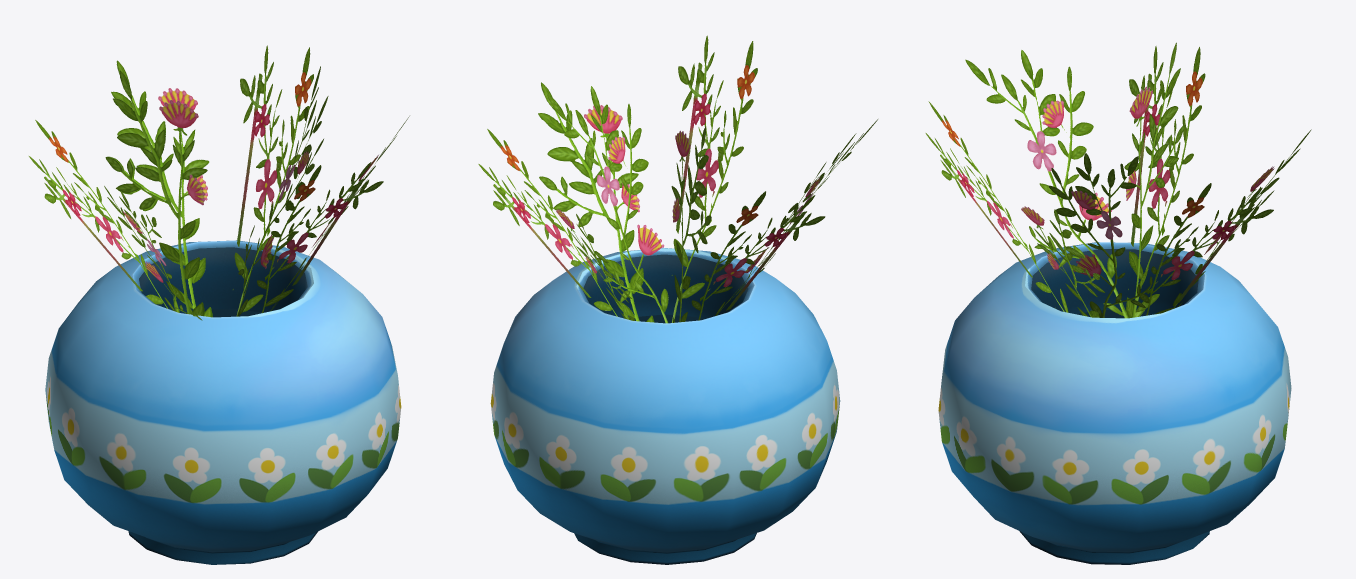
The model's file is Flowerpot.fbx.
The picture shows the model from 3 angles, left to right: view 1: azimuth 30°, elevation 25°; view 2: azimuth 150°, elevation 25°; view 3: azimuth 270°, elevation 25°; orthographic projection. The views are drawn at different scales.
Parts seen in each view (by area): view 1: 070; view 2: 070; view 3: 070.
Part boxes in pixels (bbox=[...]): 070: bbox=[29, 45, 409, 564]; 070: bbox=[478, 35, 877, 564]; 070: bbox=[925, 42, 1311, 564].
Bounding box in the file's own units: 55.32 × 65.36 × 52.14.
Materials: 1 (1 with a texture image).
